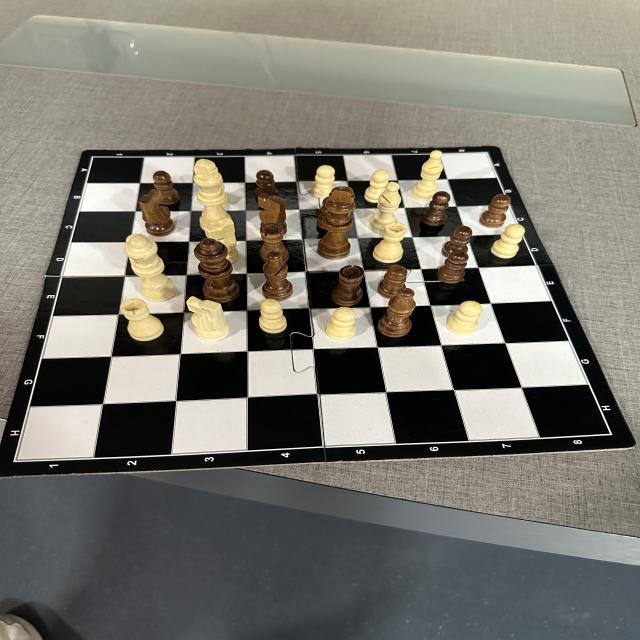Black-Bishop: (378, 288, 416, 338), (262, 252, 293, 301)
Black-King: (316, 187, 355, 259)
Black-Knight: (139, 188, 175, 236), (258, 193, 287, 234)
Black-Pawn: (378, 264, 407, 299), (437, 251, 468, 283), (480, 195, 510, 228), (442, 225, 472, 258), (423, 191, 450, 226), (154, 170, 180, 206), (254, 169, 280, 202)
Black-Queen: (194, 239, 239, 302)
Black-Rook: (332, 265, 363, 306), (258, 223, 289, 263)
White-Bishop: (368, 182, 400, 232), (412, 151, 443, 201)
White-King: (194, 159, 231, 227)
White-Knight: (187, 296, 229, 341), (204, 218, 239, 264)
White-Pawn: (490, 223, 525, 259), (445, 301, 483, 334), (325, 307, 356, 341), (259, 299, 287, 333), (364, 170, 390, 203), (312, 165, 335, 198)
White-Queen: (126, 233, 176, 301)
White-Rook: (120, 298, 164, 340), (373, 222, 406, 262)
